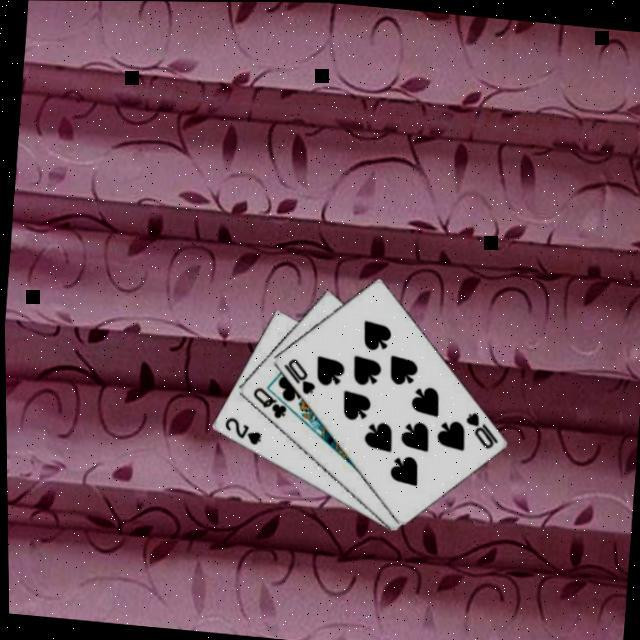10S: (274, 354, 317, 398), (456, 408, 499, 452)
2S: (217, 415, 261, 449)
QC: (243, 384, 287, 422)
